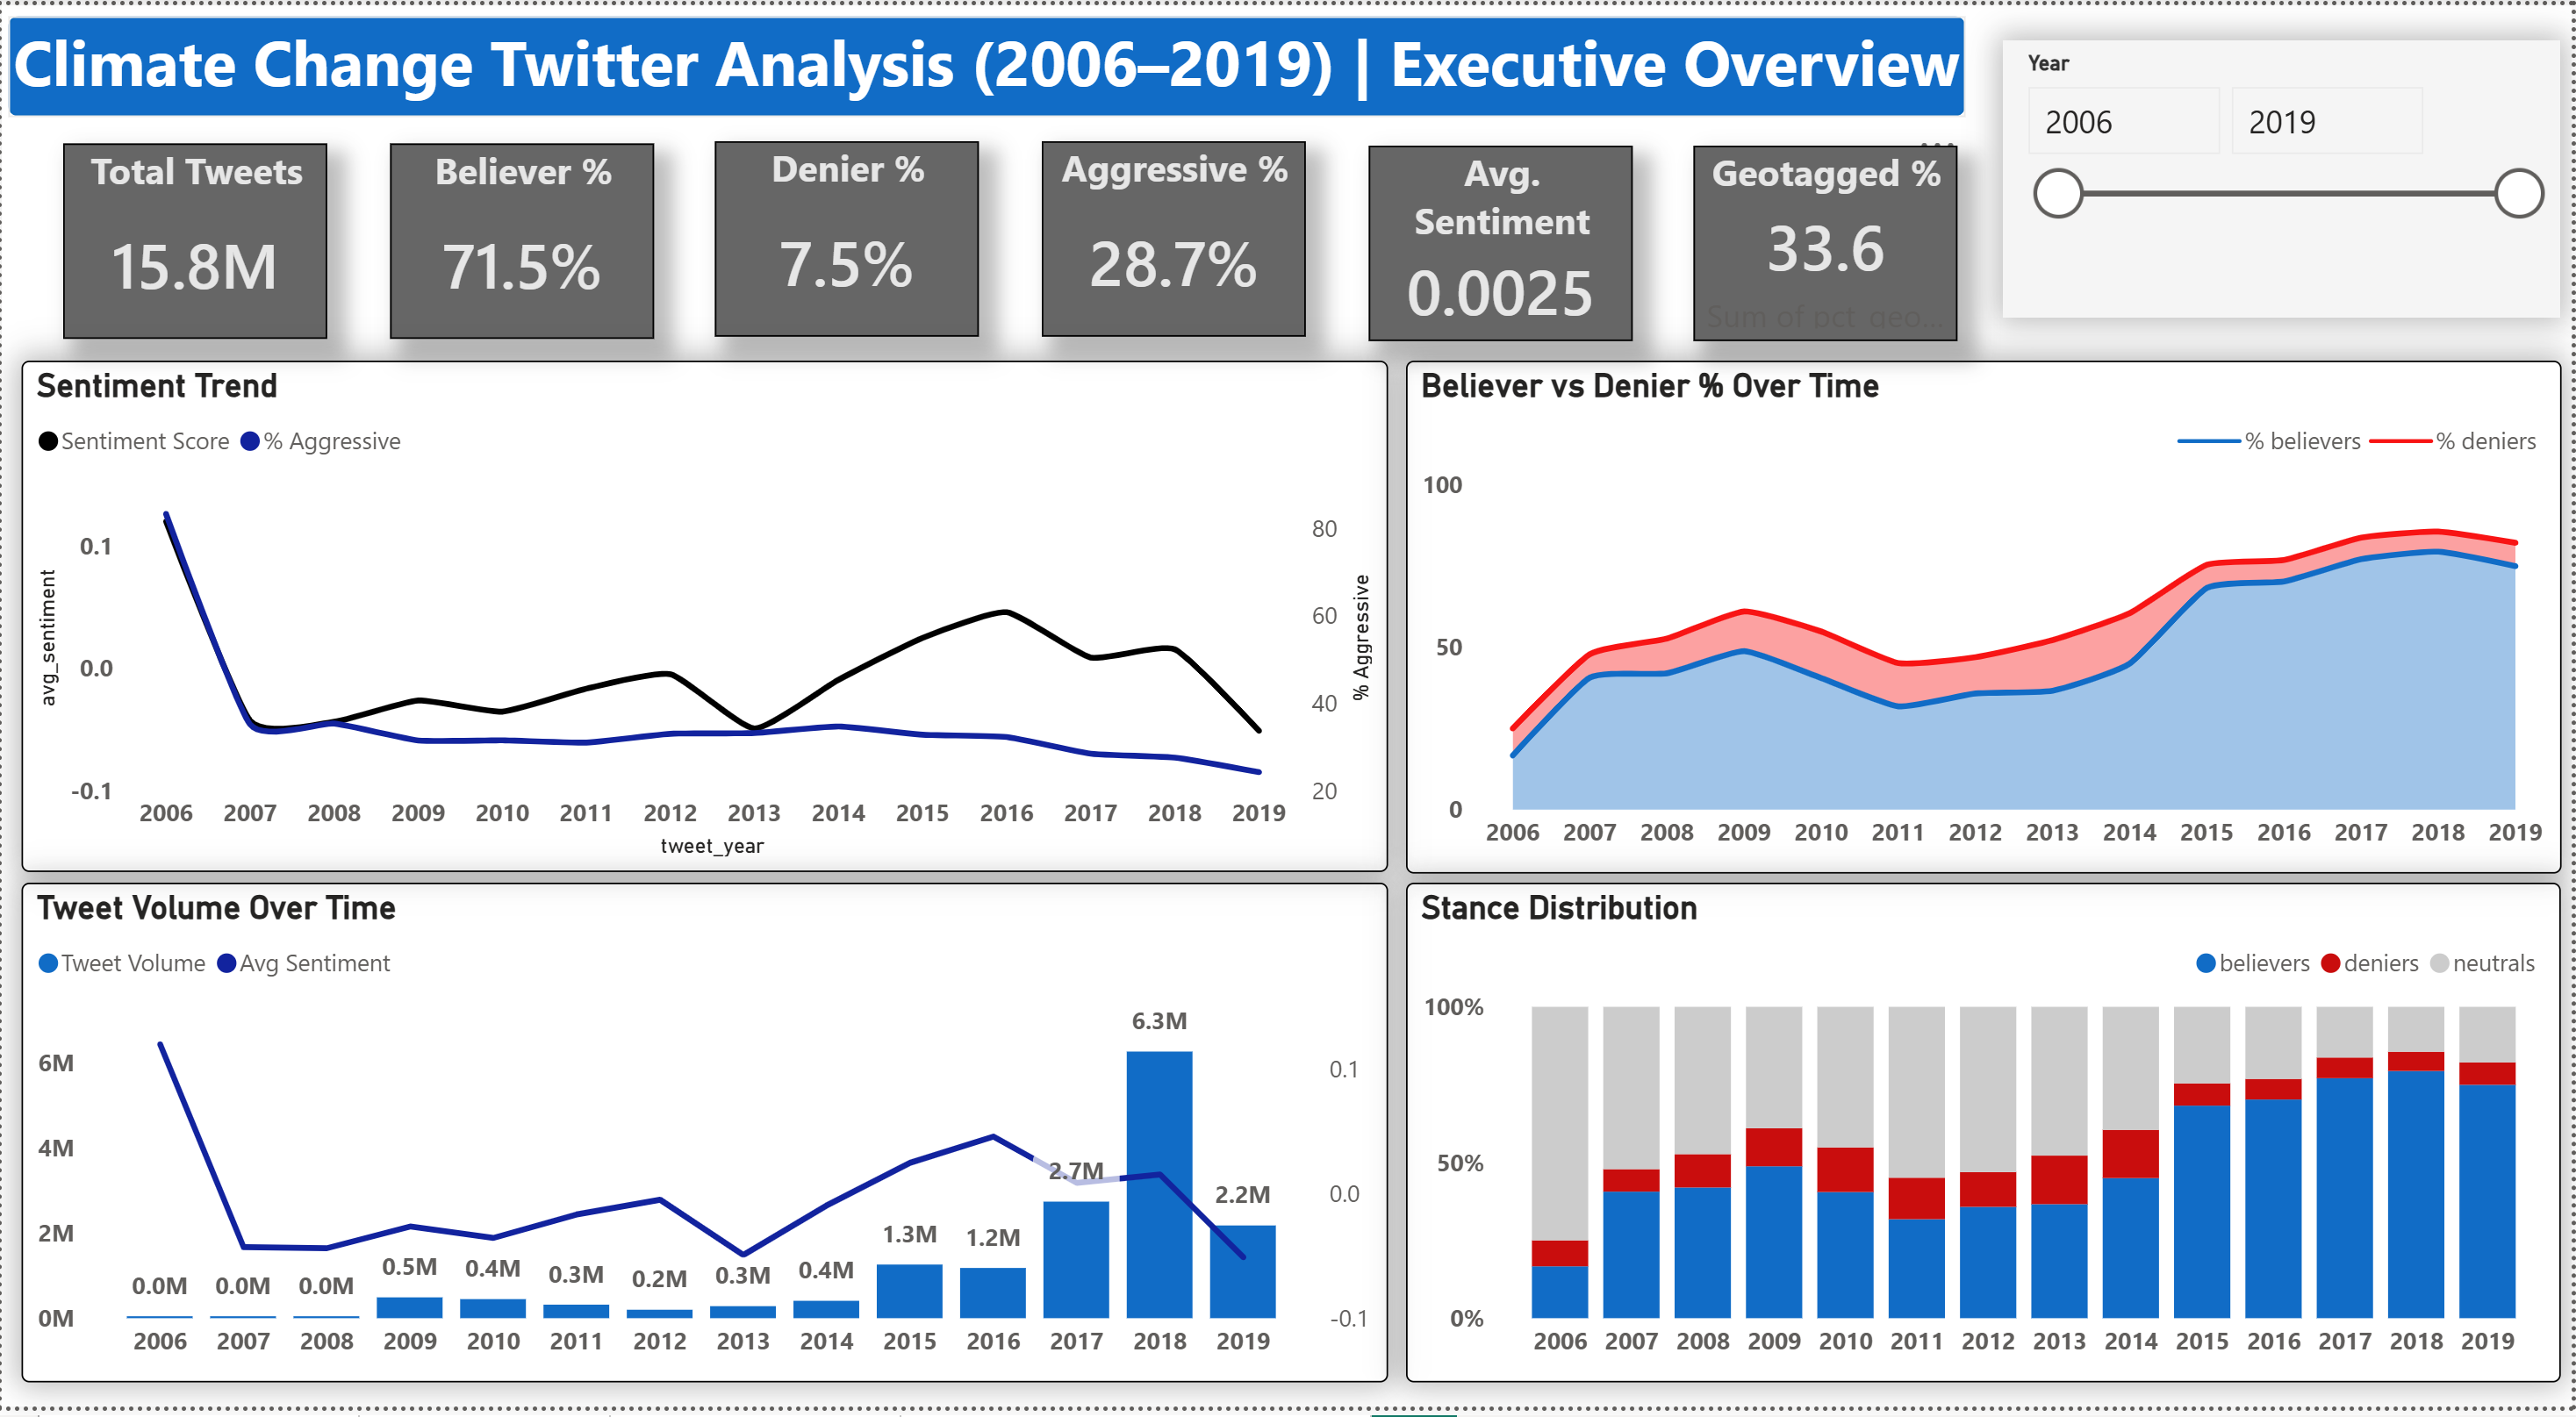

What the dashboard file says about the page in this screenshot:
{"tool":"powerbi","page":{"name":"Executive Overview","canvas":[1320,720],"ordinal":0},"visuals":[{"type":"shape","box":[3.7,6.1,1005.2,51.4],"z":0},{"type":"card","title":"Total Tweets","fields":{"Values":["DAX Measure.Total Tweets"]},"box":[31.8,70.9,135.7,100.3],"z":1000},{"type":"card","title":"Believer %","fields":{"Values":["DAX Measure.Believers %"]},"box":[199.3,70.9,135.7,100.3],"z":2000},{"type":"card","title":"Denier %","fields":{"Values":["DAX Measure.Denier %"]},"box":[366.8,69.7,135.7,100.3],"z":3000},{"type":"card","title":"Aggressive %","fields":{"Values":["DAX Measure.Aggressive %"]},"box":[534.4,69.7,135.7,100.3],"z":4000},{"type":"lineChart","title":"Sentiment Trend","fields":{"Y":["Sum(public vw_yearly_trends.avg_sentiment)"],"Category":["public vw_yearly_trends.tweet_year"],"Y2":["Sum(public vw_yearly_trends.pct_aggressive)"]},"box":[9.8,182.2,701.9,262.9],"z":5000},{"type":"stackedAreaChart","title":"Believer vs Denier % Over Time","fields":{"Category":["public vw_yearly_trends.tweet_year"],"Y":["Sum(public vw_yearly_trends.pct_believers)","Sum(public vw_yearly_trends.pct_deniers)"]},"box":[721.2,182.5,593.8,263.8],"z":6000},{"type":"lineClusteredColumnComboChart","title":"Tweet Volume Over Time","fields":{"Category":["public vw_yearly_trends.tweet_year"],"Y":["Sum(public vw_yearly_trends.total_tweets)"],"Y2":["Sum(public vw_yearly_trends.avg_sentiment)"]},"box":[9.8,451.2,701.9,256.8],"z":7000},{"type":"slicer","fields":{"Values":["public vw_yearly_trends.tweet_year"]},"box":[1027.5,17.5,286.2,142.5],"z":8000},{"type":"card","title":"Avg. Sentiment","fields":{"Values":["DAX Measure.Avg. Sentiment"]},"box":[701.9,72.1,135.7,100.3],"z":9000},{"type":"hundredPercentStackedColumnChart","title":"Stance Distribution","fields":{"Category":["public vw_yearly_trends.tweet_year"],"Y":["Sum(public vw_yearly_trends.believers)","Sum(public vw_yearly_trends.deniers)","Sum(public vw_yearly_trends.neutrals)"]},"box":[721.5,451.2,593.1,256.8],"z":10000},{"type":"card","title":"Geotagged %","fields":{"Values":["Sum(public vw_kpi_summary.pct_geotagged)"]},"box":[869.4,72.1,135.7,100.3],"z":11000}]}

Visuals, with their boxes in screenshot pixels (x1, y1, x2, y2), scaled from the page's 1320x720 canvas onto the 2576x1417 screenshot:
shape: {"x1": 7, "y1": 12, "x2": 1969, "y2": 113}
"Total Tweets" card: {"x1": 62, "y1": 140, "x2": 326, "y2": 337}
"Believer %" card: {"x1": 389, "y1": 140, "x2": 654, "y2": 337}
"Denier %" card: {"x1": 716, "y1": 137, "x2": 980, "y2": 334}
"Aggressive %" card: {"x1": 1043, "y1": 137, "x2": 1308, "y2": 334}
"Sentiment Trend" lineChart: {"x1": 19, "y1": 359, "x2": 1388, "y2": 876}
"Believer vs Denier % Over Time" stackedAreaChart: {"x1": 1408, "y1": 359, "x2": 2566, "y2": 878}
"Tweet Volume Over Time" lineClusteredColumnComboChart: {"x1": 19, "y1": 888, "x2": 1388, "y2": 1393}
slicer - public vw_yearly_trends.tweet_year: {"x1": 2006, "y1": 34, "x2": 2564, "y2": 315}
"Avg. Sentiment" card: {"x1": 1370, "y1": 142, "x2": 1634, "y2": 340}
"Stance Distribution" hundredPercentStackedColumnChart: {"x1": 1408, "y1": 888, "x2": 2565, "y2": 1393}
"Geotagged %" card: {"x1": 1697, "y1": 142, "x2": 1962, "y2": 340}
